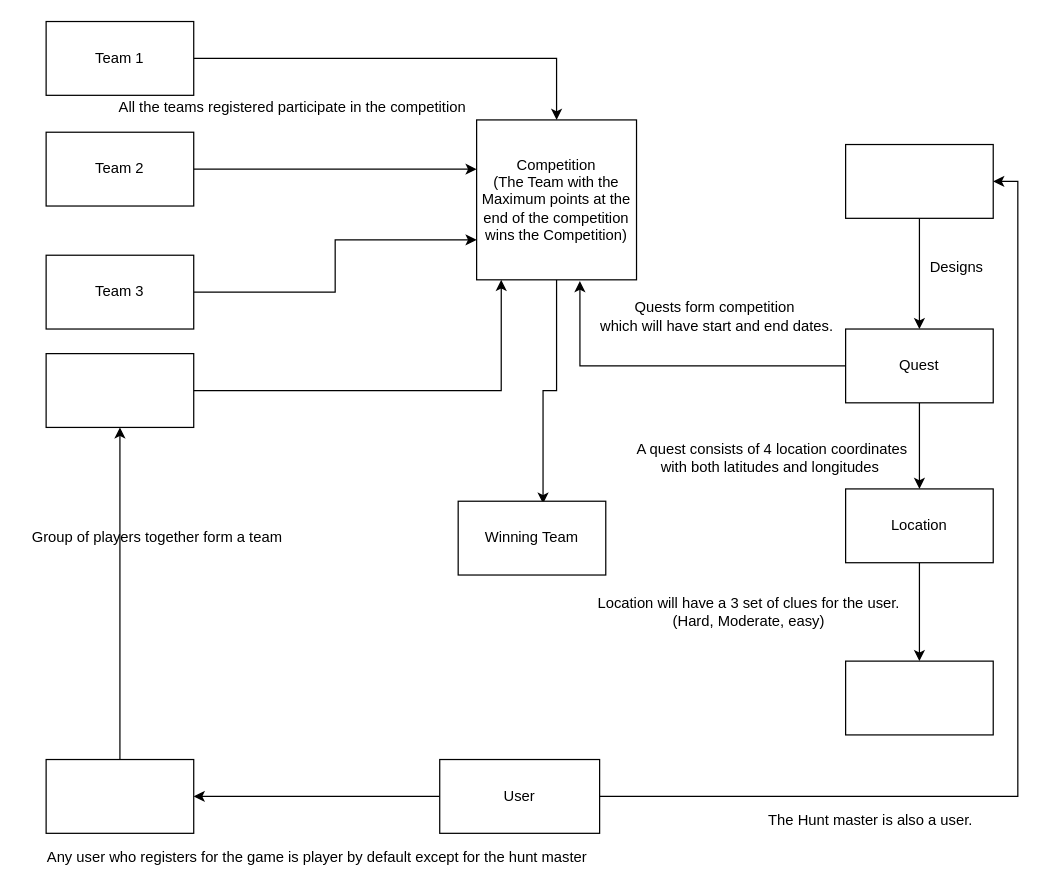
This 1049x892 diagram has some shape labels left out. The centre of each missing label's shape, as x and y in pixels:
Clues: the point at 918,697
Hunt Master: the point at 918,180
Players: the point at 119,795
Team 4: the point at 119,389
